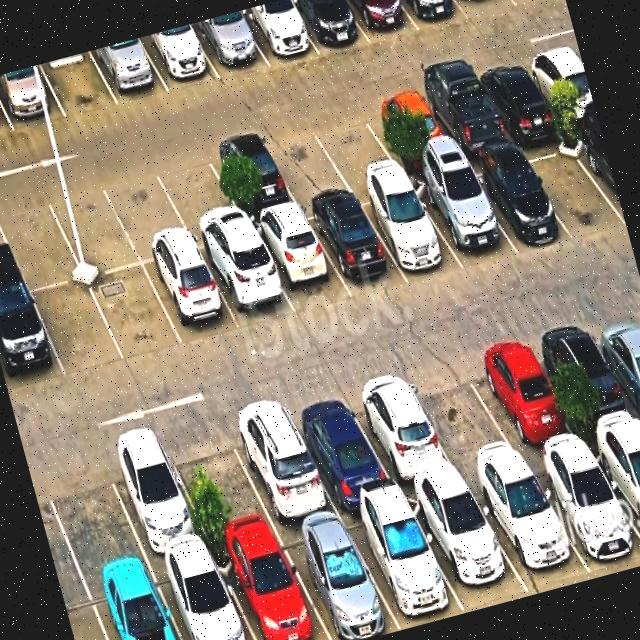empty: (399, 349, 525, 480), (159, 417, 276, 547), (36, 446, 147, 581), (516, 130, 625, 236), (151, 146, 250, 249), (43, 176, 141, 278), (101, 163, 196, 263), (88, 264, 184, 362), (31, 280, 124, 378), (0, 190, 83, 291), (259, 118, 350, 202), (308, 105, 400, 186), (40, 51, 118, 117)
occupied: (341, 498, 464, 630), (405, 483, 529, 610), (467, 464, 590, 591), (222, 395, 338, 529), (463, 333, 583, 462), (275, 517, 400, 640), (341, 367, 462, 491), (97, 431, 211, 562), (282, 385, 398, 512), (527, 448, 640, 573), (533, 316, 640, 443), (212, 533, 330, 640), (248, 207, 351, 316), (408, 167, 518, 269), (460, 151, 569, 253), (302, 193, 407, 297), (355, 180, 463, 280), (150, 549, 254, 640), (143, 251, 240, 346), (199, 237, 296, 330), (414, 74, 512, 159), (204, 132, 298, 219), (362, 90, 456, 168), (86, 565, 181, 640), (472, 58, 561, 138), (0, 289, 66, 395), (585, 304, 640, 412), (521, 45, 596, 123), (138, 24, 220, 92), (236, 0, 319, 65), (90, 37, 169, 105), (588, 429, 640, 532), (191, 11, 268, 78), (569, 123, 622, 212), (286, 0, 369, 54), (0, 64, 65, 131), (346, 0, 418, 43), (401, 0, 468, 30), (454, 0, 517, 21)
